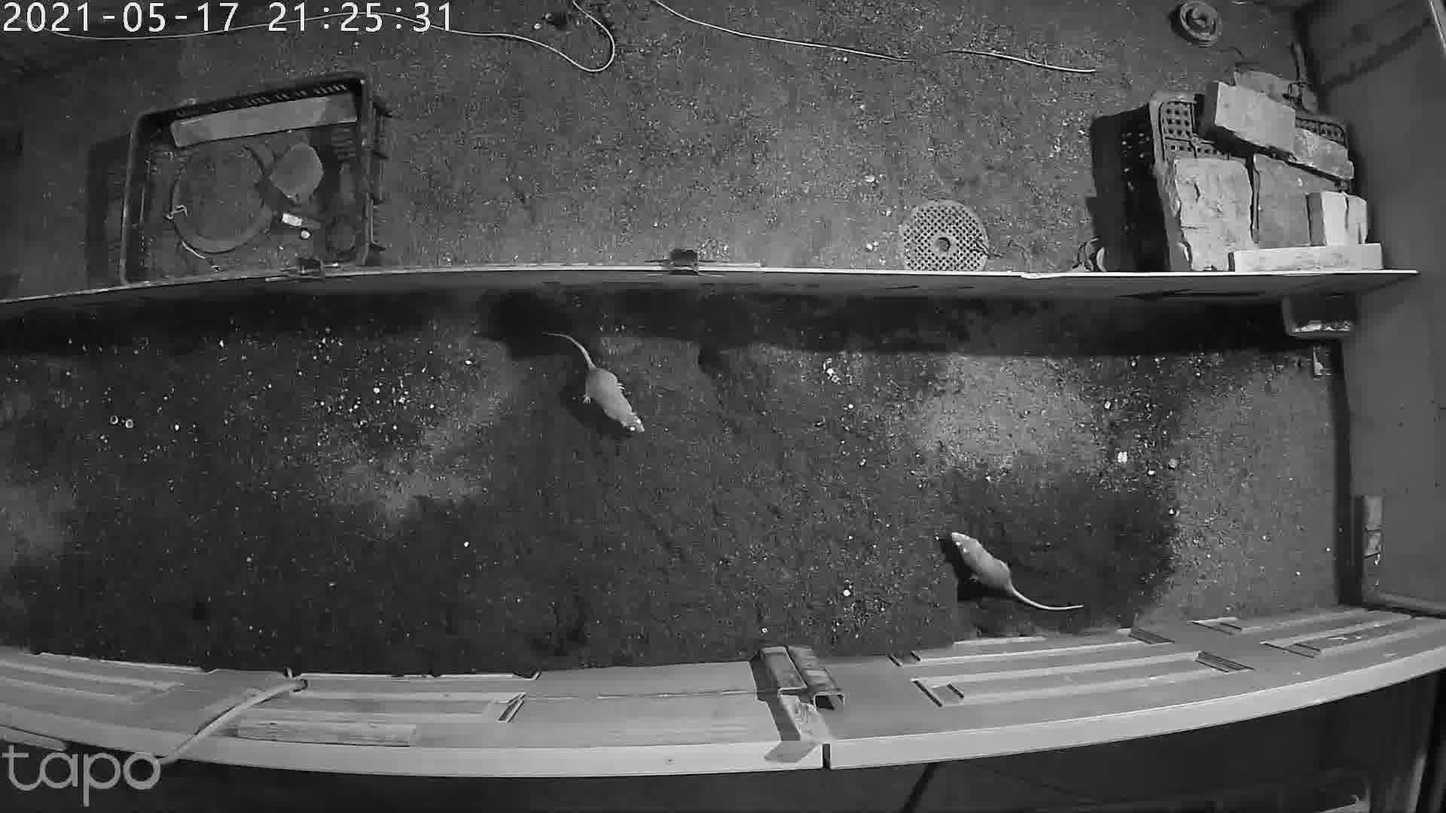rat: (950, 513, 1088, 632), (548, 319, 660, 448)
